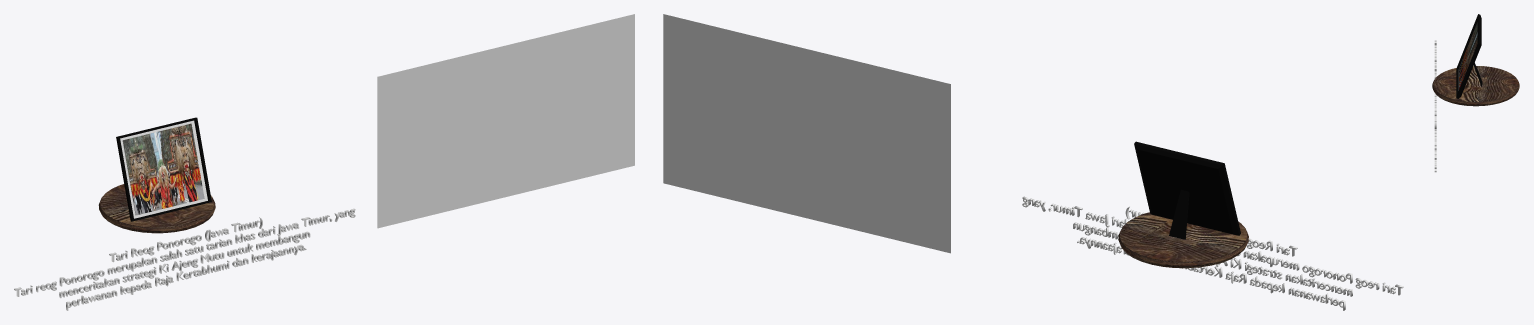
File: 17. Tari Reog (Jawa timur).fbx
3 views of the same model, side by side, from view 1: azimuth 30°, elevation 25°; view 2: azimuth 150°, elevation 25°; view 3: azimuth 270°, elevation 25° (orthographic). The views are drawn at different scales.
Visible parts, largest first — view 1: Plane, Cube.029, Text; view 2: Plane, Cube.029, Text; view 3: Cube.029, Text.
Part boxes in pixels (box(x1,y1,x2,y2)): Plane: box(377, 14, 634, 228); Cube.029: box(98, 117, 215, 233); Text: box(14, 208, 355, 310); Plane: box(663, 14, 950, 253); Cube.029: box(1118, 141, 1248, 268); Text: box(1022, 196, 1403, 310); Cube.029: box(1432, 14, 1519, 106); Text: box(1434, 40, 1436, 172).
Bounding box in the file's own units: 7965 × 1800 × 1260.
Materials: 6 (3 with a texture image).
